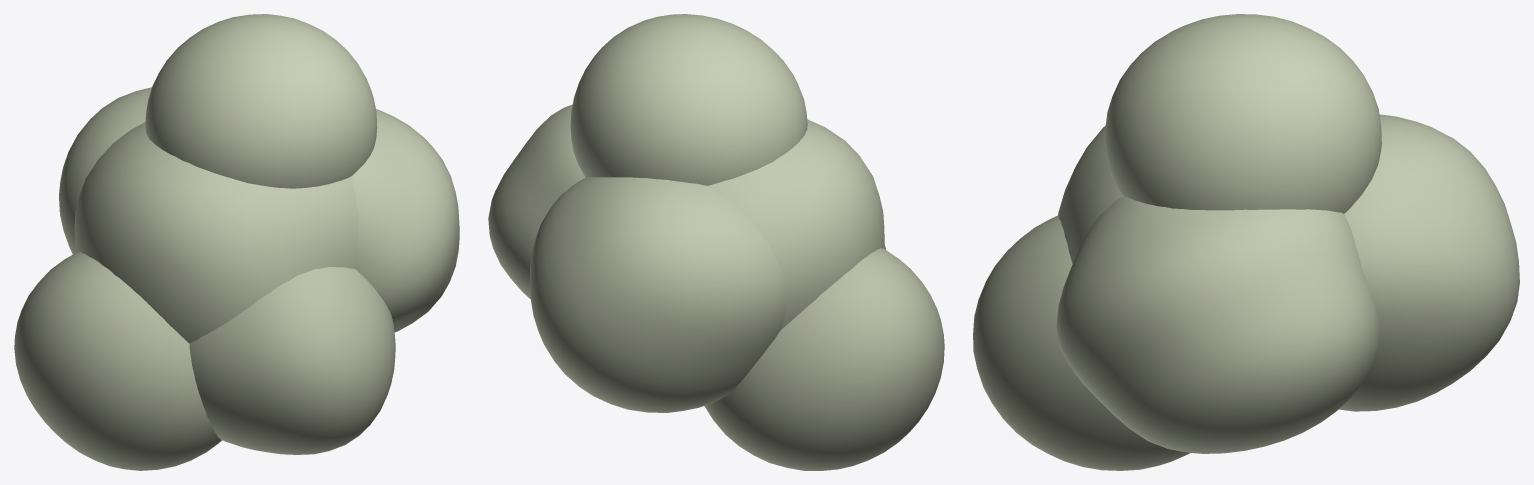
File: bush_a.glb
3 renders of one model, left to right at view 1: azimuth 30°, elevation 25°; view 2: azimuth 150°, elevation 25°; view 3: azimuth 270°, elevation 25°, orthographic. The views are drawn at different scales.
Parts seen in each view (by area): view 1: crown; view 2: crown; view 3: crown.
Boxes of the visible parts, box(x1,y1,x2,y2) form: crown: box(14, 14, 459, 470); crown: box(488, 14, 944, 470); crown: box(973, 14, 1519, 470).
Bounding box in the file's own units: 2.39 × 2.19 × 2.31.
